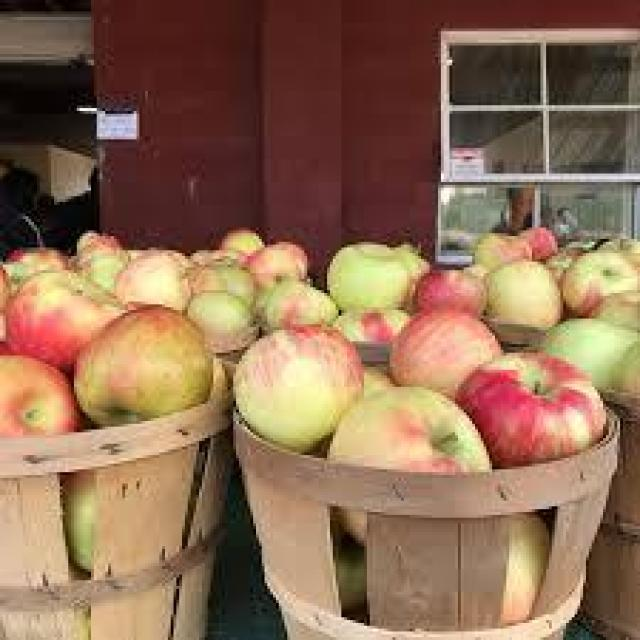maca: (0, 242, 348, 325), (442, 347, 604, 466), (59, 297, 212, 413), (233, 326, 355, 449)
